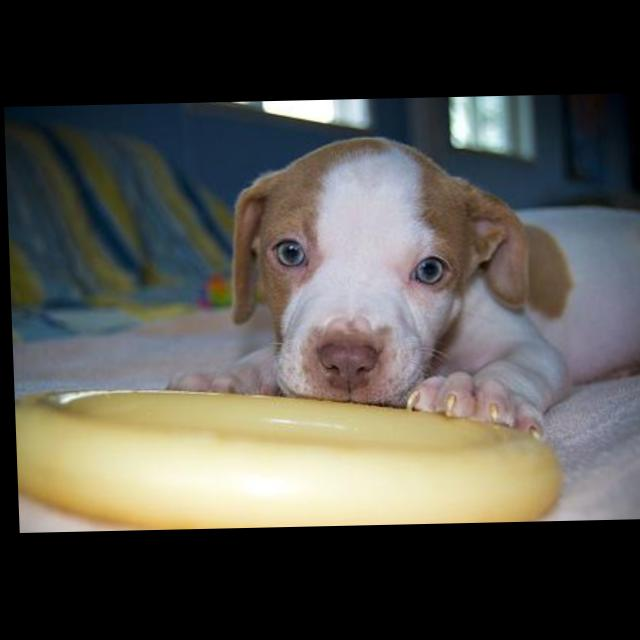amstaff: (157, 133, 640, 449)
